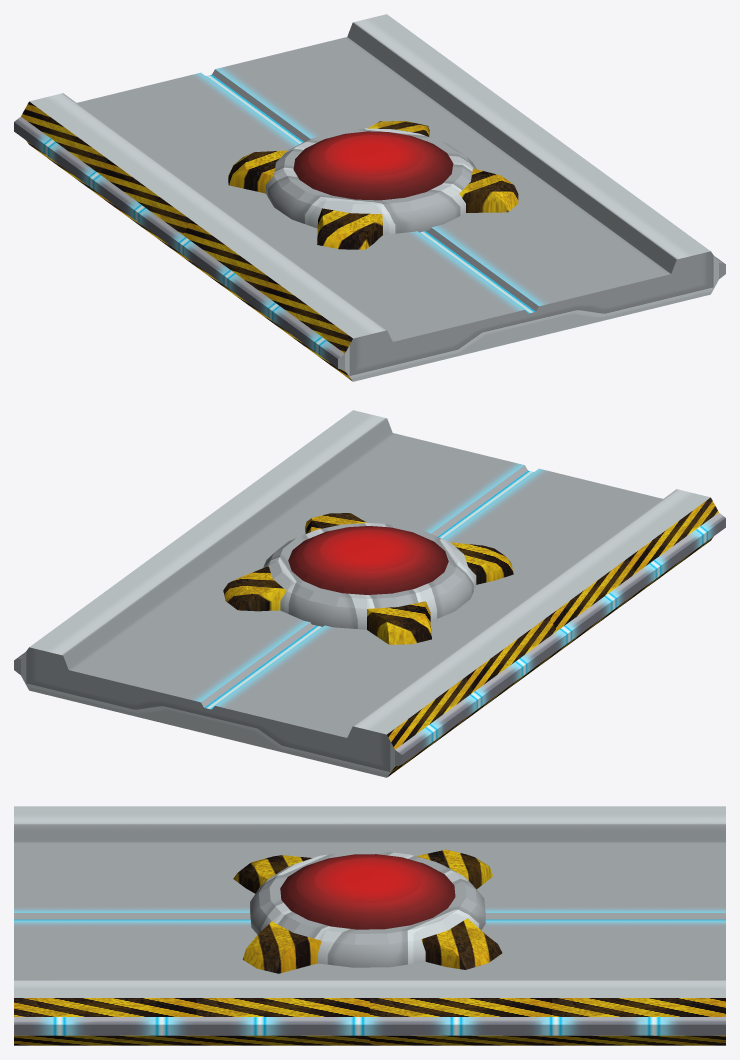
Rendered from Obstacle_1.fbx.
3 renders of one model, top to bottom at view 1: azimuth 30°, elevation 25°; view 2: azimuth 150°, elevation 25°; view 3: azimuth 270°, elevation 25°, orthographic. The views are drawn at different scales.
Parts seen in each view (by area): view 1: Obstacle_1; view 2: Obstacle_1; view 3: Obstacle_1.
Part boxes in pixels (x1,y1,x2,y2): Obstacle_1: [14, 14, 725, 381]; Obstacle_1: [14, 410, 725, 777]; Obstacle_1: [14, 806, 725, 1045].
Bounding box in the file's own units: 4.15 × 0.6667 × 6.
2 materials, 2 textured.
